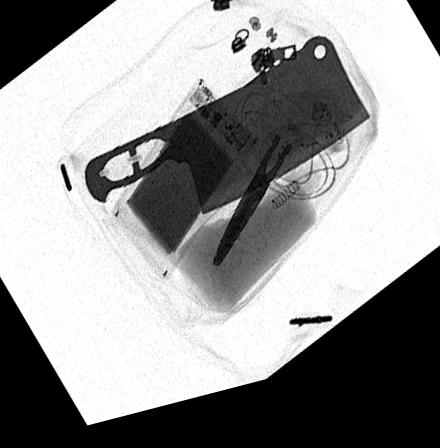Knife: (83, 51, 372, 227)
Powerbank: (105, 83, 259, 292)
Scissors: (209, 79, 341, 279)
